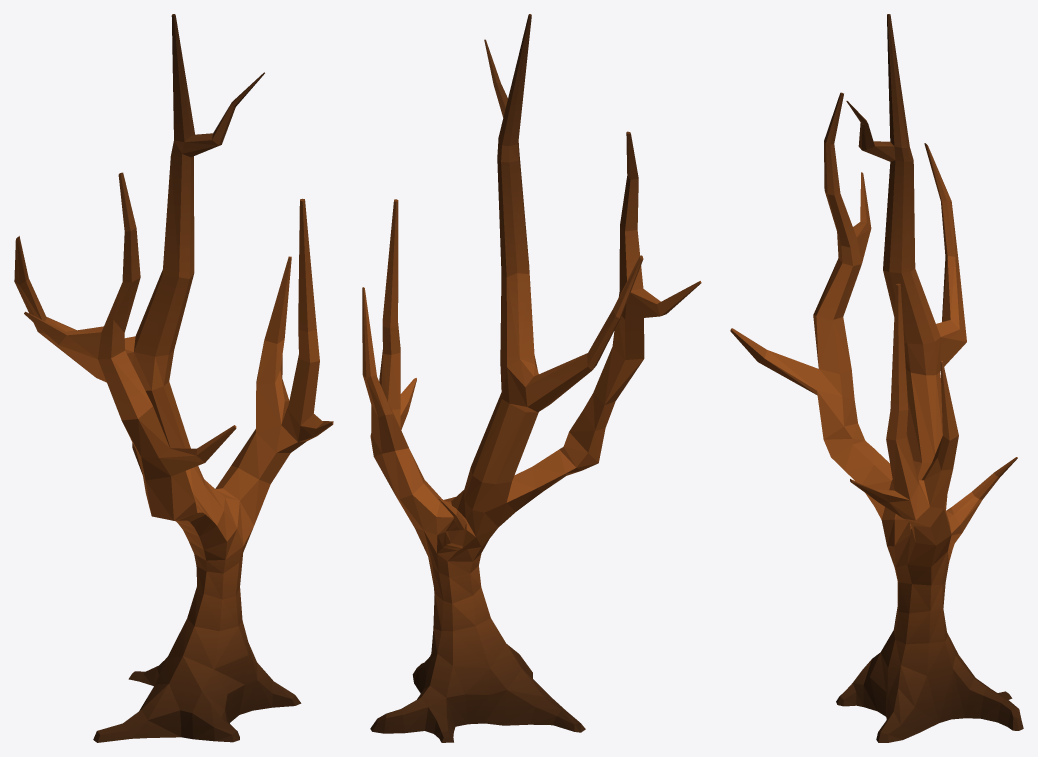
Rendered from TreeDead-03.FBX.
3 renders of one model, left to right at view 1: azimuth 30°, elevation 25°; view 2: azimuth 150°, elevation 25°; view 3: azimuth 270°, elevation 25°, orthographic. The views are drawn at different scales.
Parts seen in each view (by area): view 1: TreeDead-03; view 2: TreeDead-03; view 3: TreeDead-03.
Part boxes in pixels (bbox=[...]): TreeDead-03: bbox=[14, 14, 333, 742]; TreeDead-03: bbox=[362, 14, 701, 742]; TreeDead-03: bbox=[730, 14, 1023, 742].
Size of the model in its own units: 571 by 1247 by 490.
Materials: 1 (1 with a texture image).
